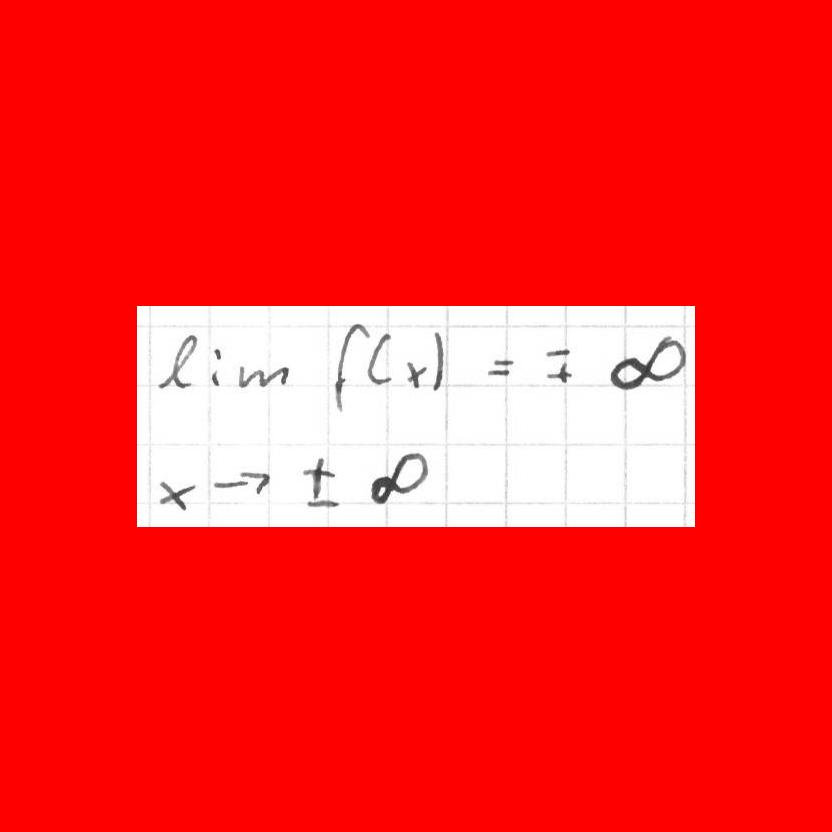Char: (609, 327, 689, 392), (332, 319, 370, 417), (368, 448, 428, 505), (151, 329, 201, 389), (207, 464, 276, 497), (300, 455, 338, 500), (368, 327, 396, 388), (237, 359, 292, 390), (158, 474, 195, 512), (427, 329, 447, 393), (484, 352, 519, 381), (538, 359, 576, 384), (209, 344, 228, 390), (405, 357, 430, 389), (301, 497, 342, 514), (541, 344, 572, 358)
